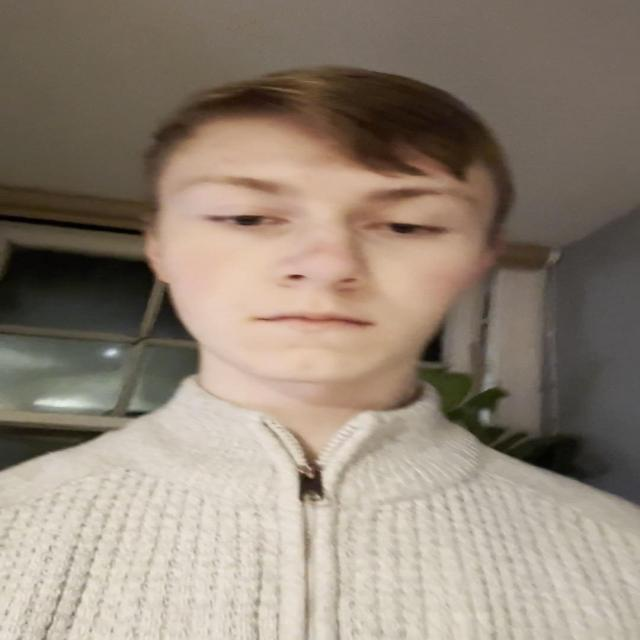no-helmet: (152, 101, 499, 386)
